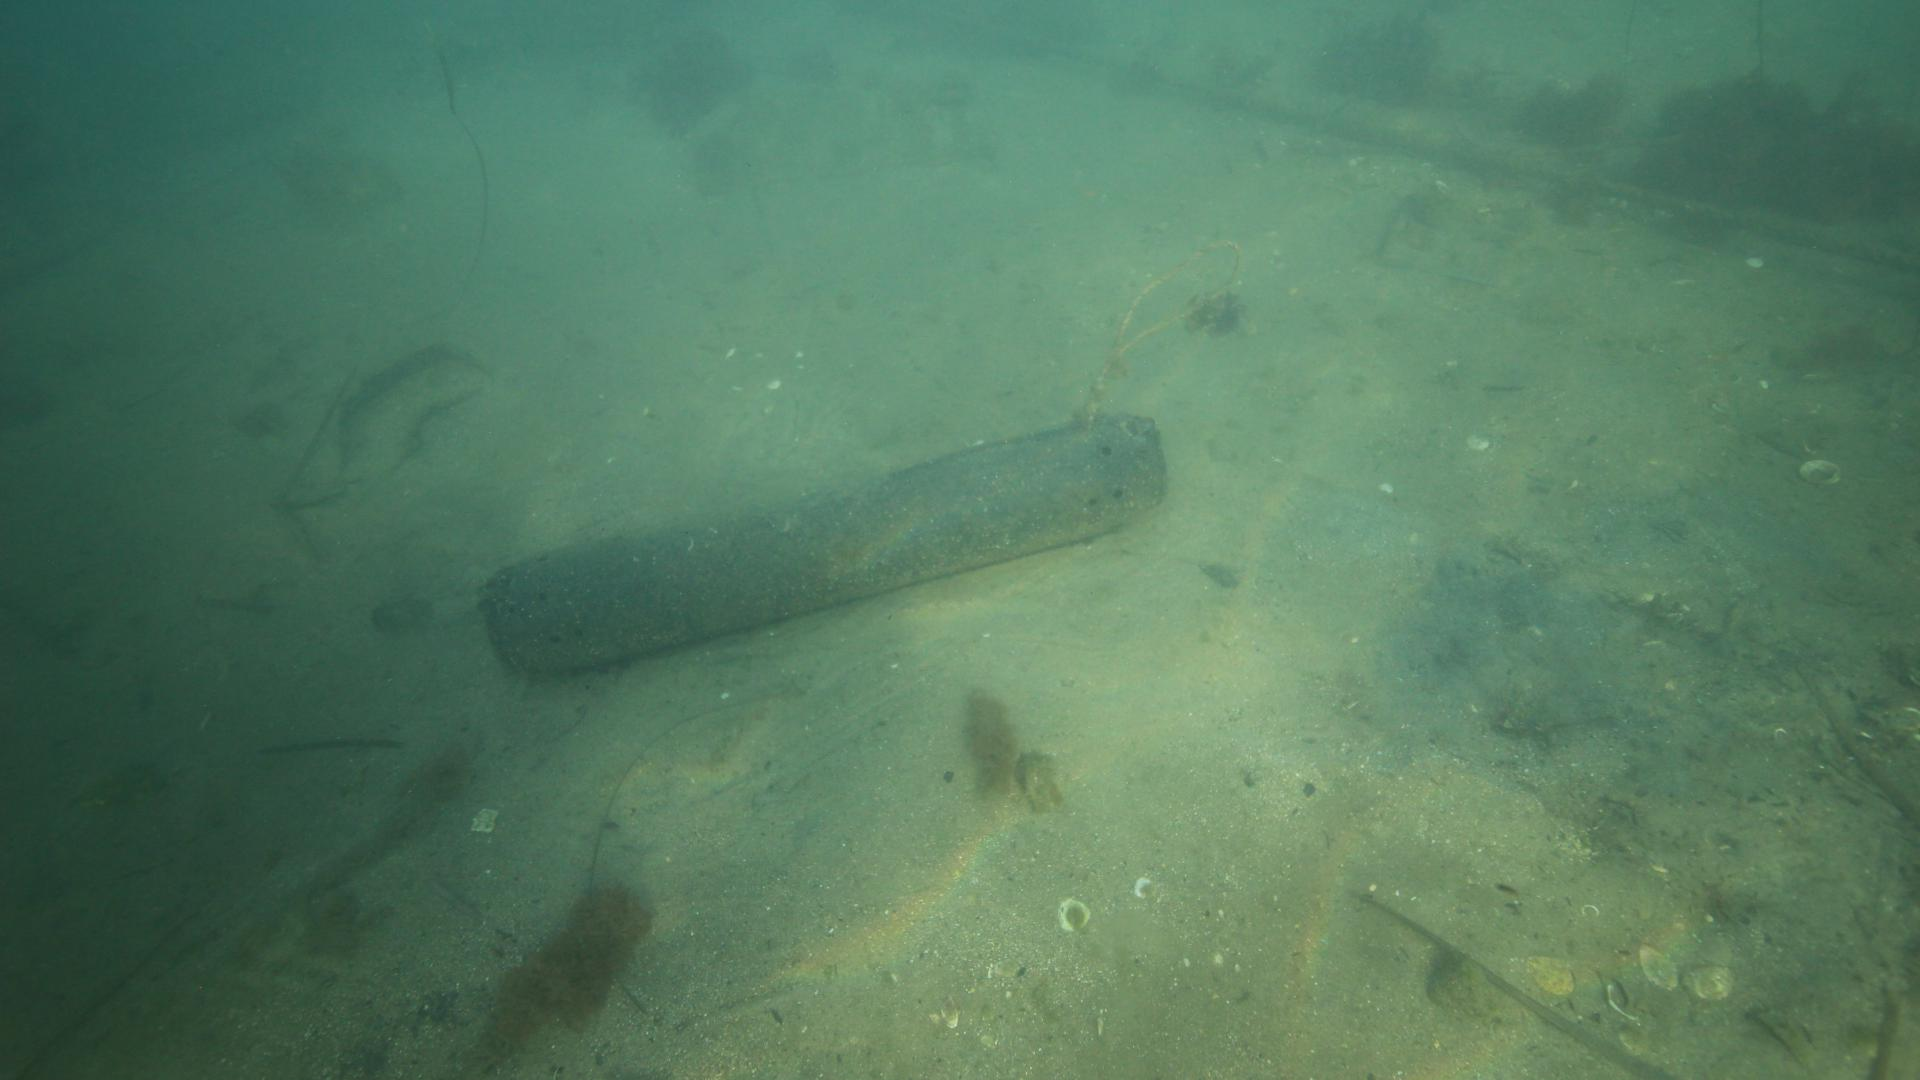bundle of ropes: (1080, 237, 1238, 423)
eel fish trap: (477, 413, 1168, 680)
